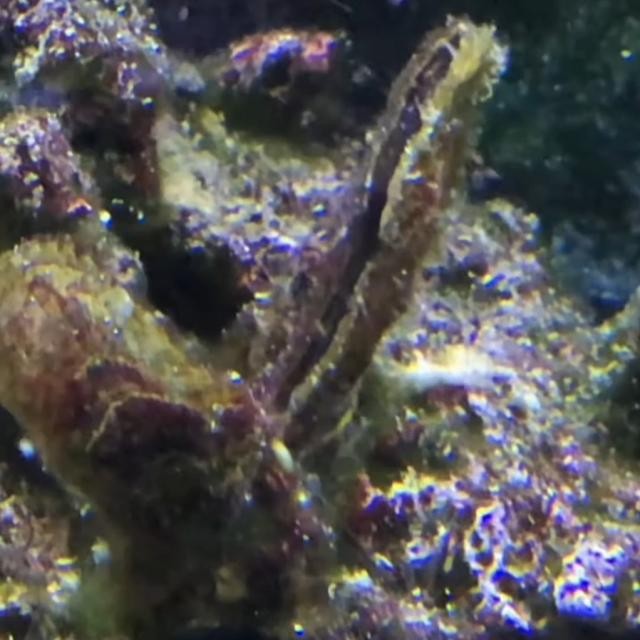Oyster-Closed: (213, 23, 506, 461)
Oyster-Indeterminate: (0, 234, 303, 603)
